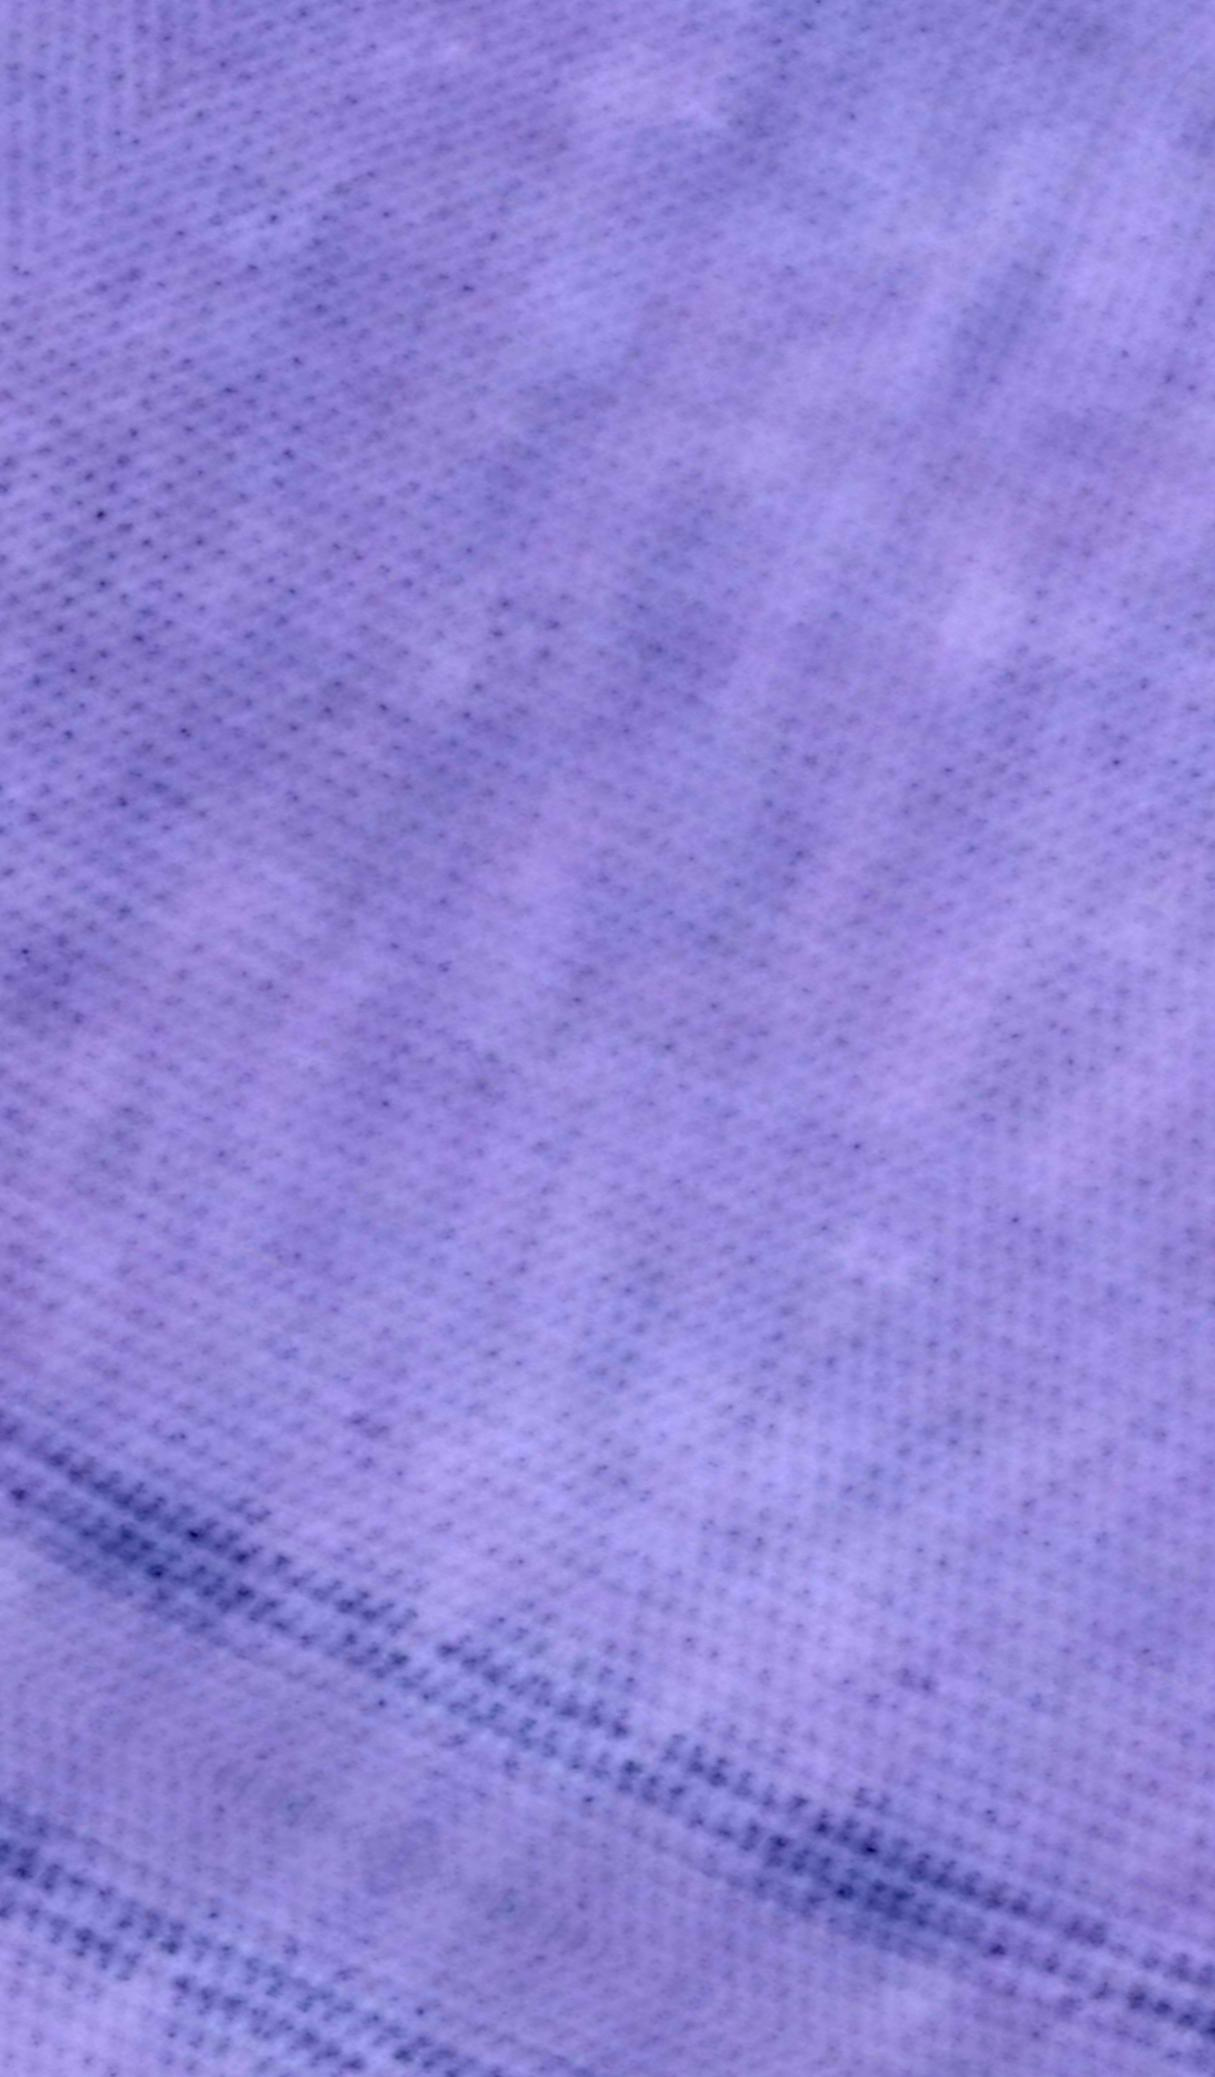slub: (4, 1390, 1215, 2070), (9, 1802, 579, 2071)
